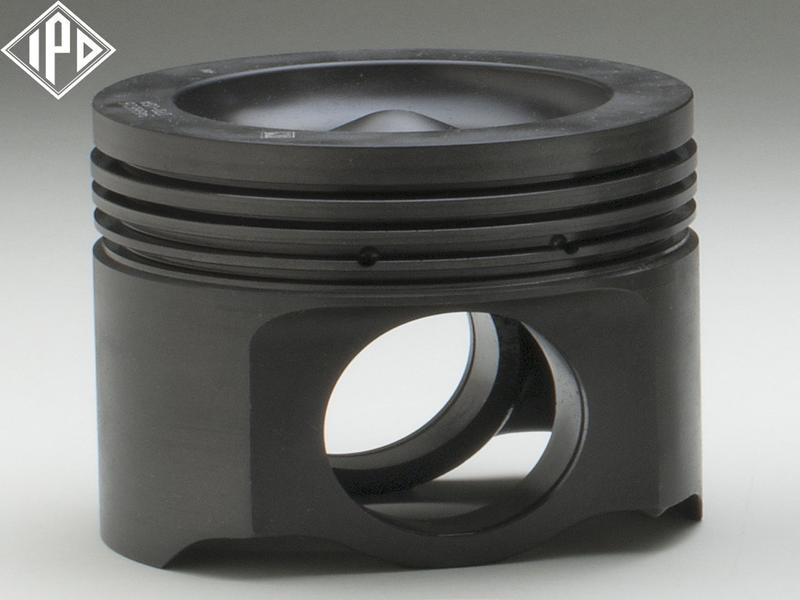piston: (72, 47, 723, 579)
